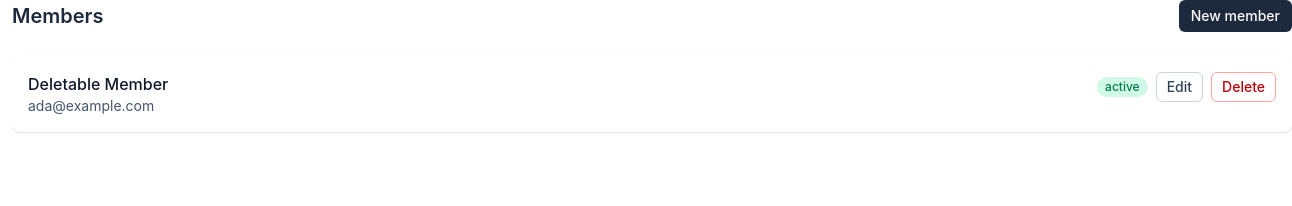
Test case: MembersList — role-gated management › surfaces the has-loans conflict and keeps the member when delete fails
Click the button "Delete". click: (1244, 87)
box: [1211,72,1276,102]
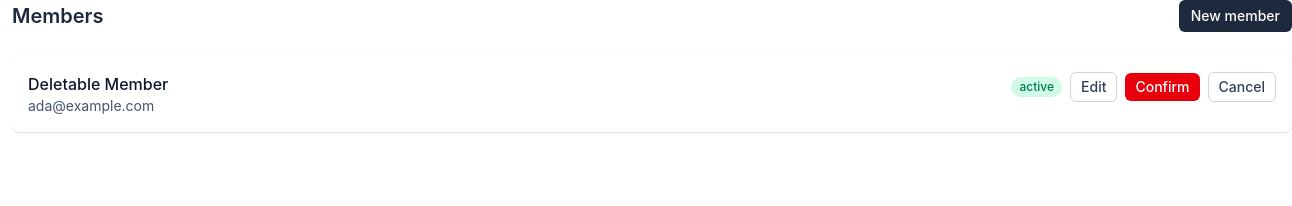
Click the button "Confirm". click: (1163, 87)
box: [1126,73,1200,101]
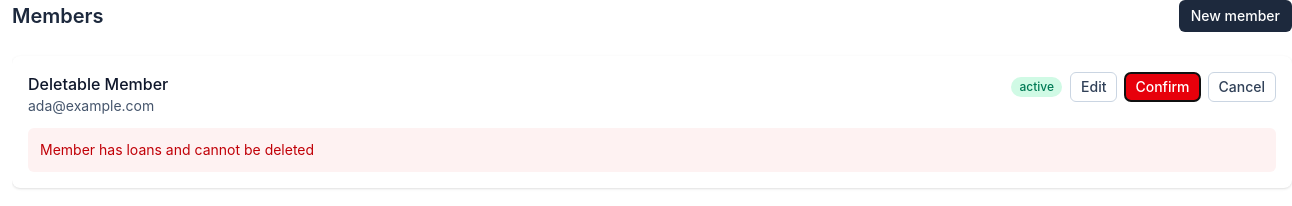
Expected: the link "Deletable Member" is shown, [28,74,168,94]
Now the message reads "Member has loans and cannot be deleted", box [40,141,314,158]
